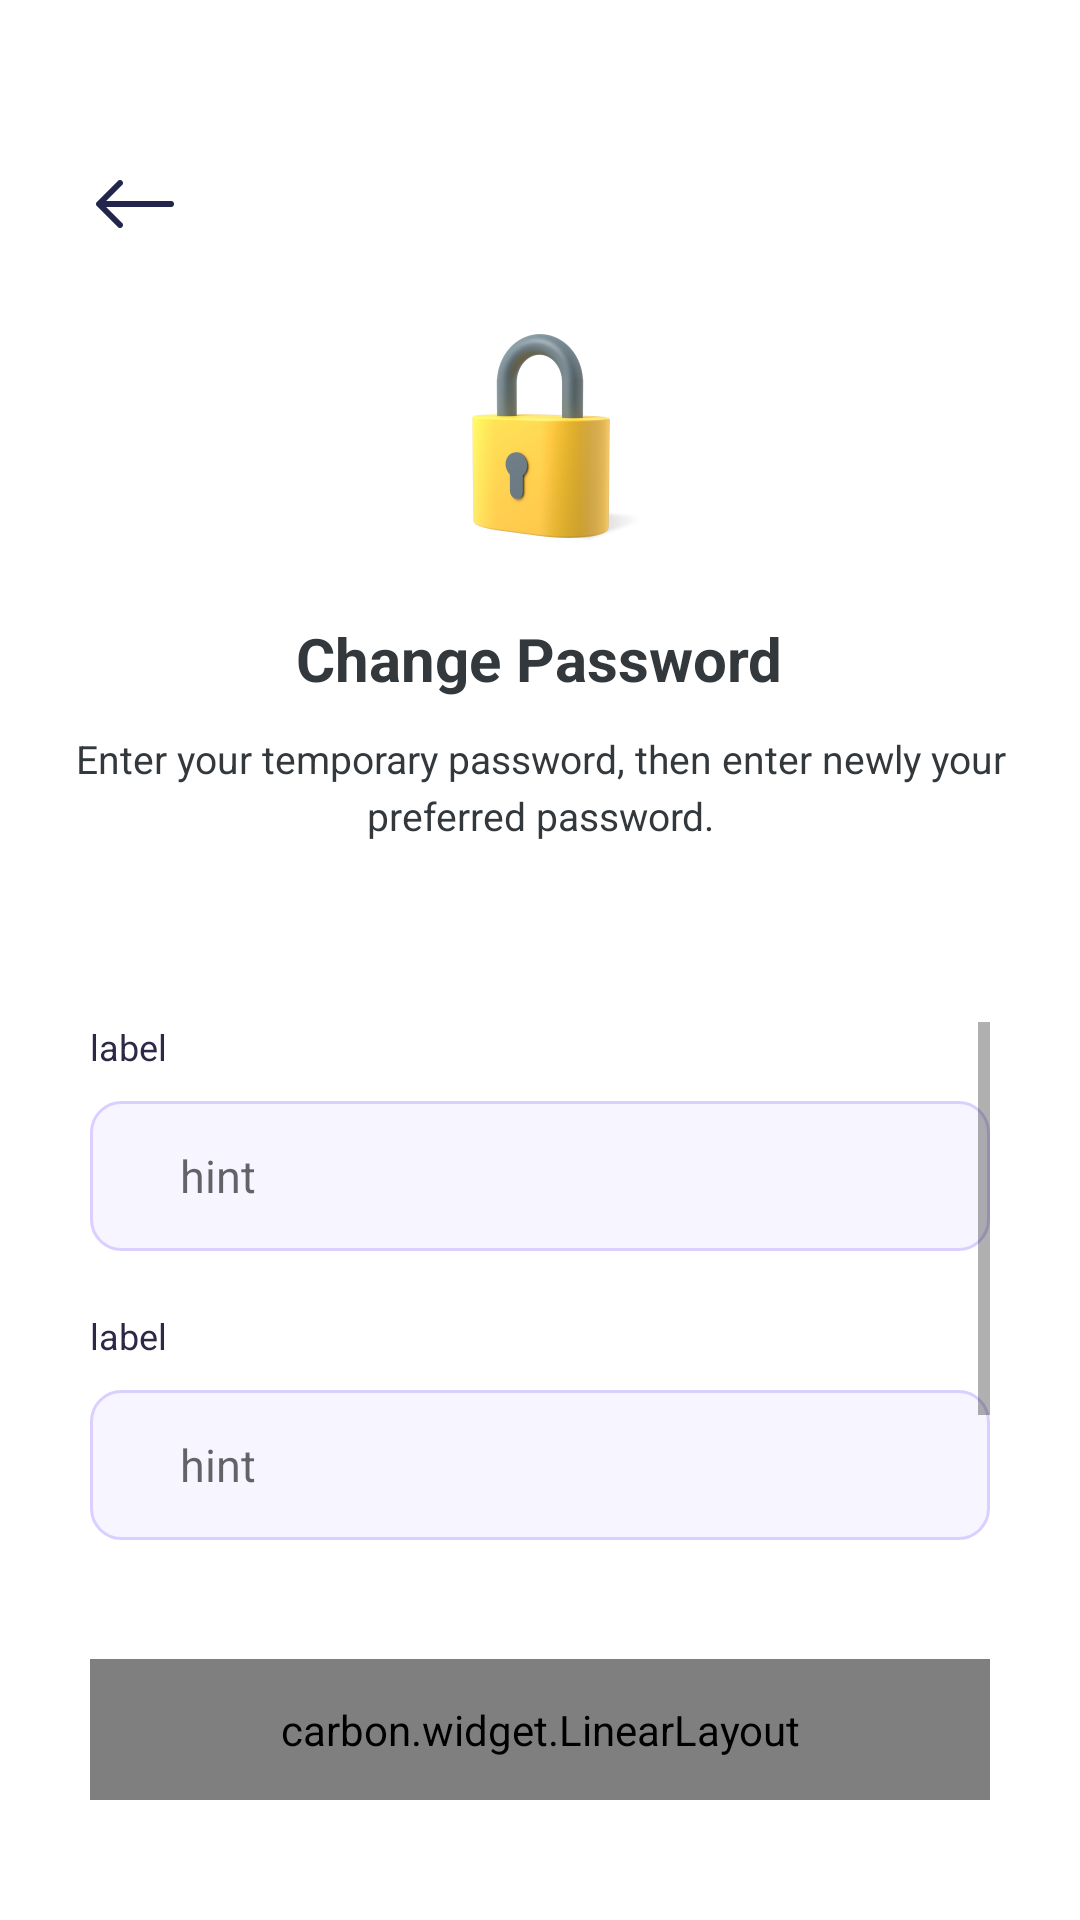

Screen size 1080*1920. Icon name, then its center in pixels as point (x, y):
arrow left: point (135, 204)
lock: point (543, 436)
